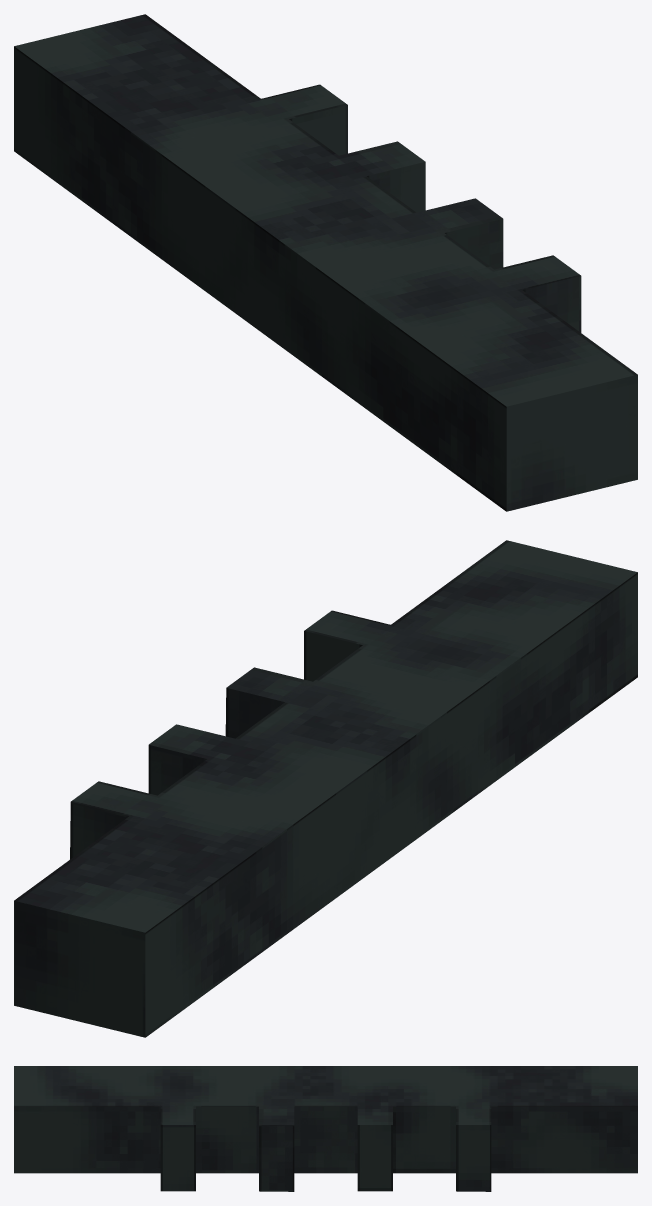
File: wiresEnd.fbx
3 renders of one model, top to bottom at view 1: azimuth 30°, elevation 25°; view 2: azimuth 150°, elevation 25°; view 3: azimuth 270°, elevation 25°, orthographic. The views are drawn at different scales.
Visible parts, largest first — view 1: wireEnd; view 2: wireEnd; view 3: wireEnd.
Part boxes in pixels (bbox=[...]): wireEnd: bbox=[14, 14, 637, 511]; wireEnd: bbox=[14, 540, 637, 1037]; wireEnd: bbox=[14, 1066, 637, 1191].
Bounding box in the file's own units: 0.9176 × 0.2062 × 0.108.
